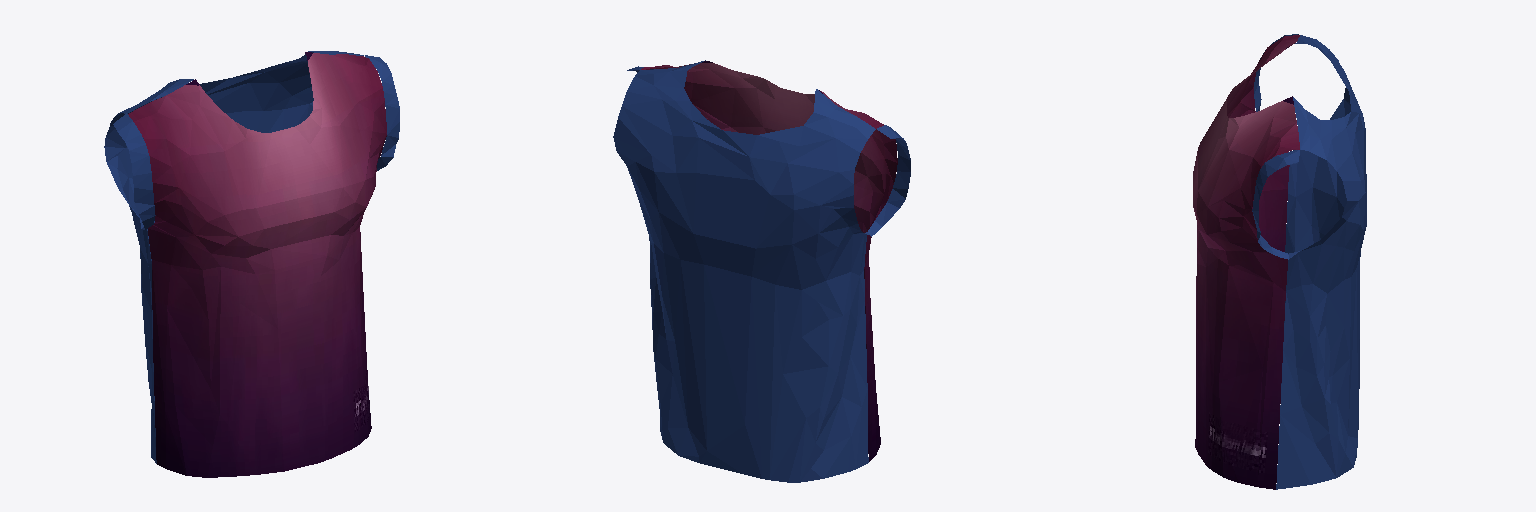
3 renders of one model, left to right at view 1: azimuth 30°, elevation 25°; view 2: azimuth 150°, elevation 25°; view 3: azimuth 270°, elevation 25°, orthographic.
Visible parts, largest first — view 1: T_shirt.004; view 2: T_shirt.004; view 3: T_shirt.004.
Part boxes in pixels (x1,y1,x2,y2): T_shirt.004: (104, 51, 399, 477); T_shirt.004: (613, 60, 910, 482); T_shirt.004: (1193, 34, 1366, 489).
Size of the model in its own units: 0.2935 by 0.3892 by 0.1639.
Materials: 2 (1 with a texture image).